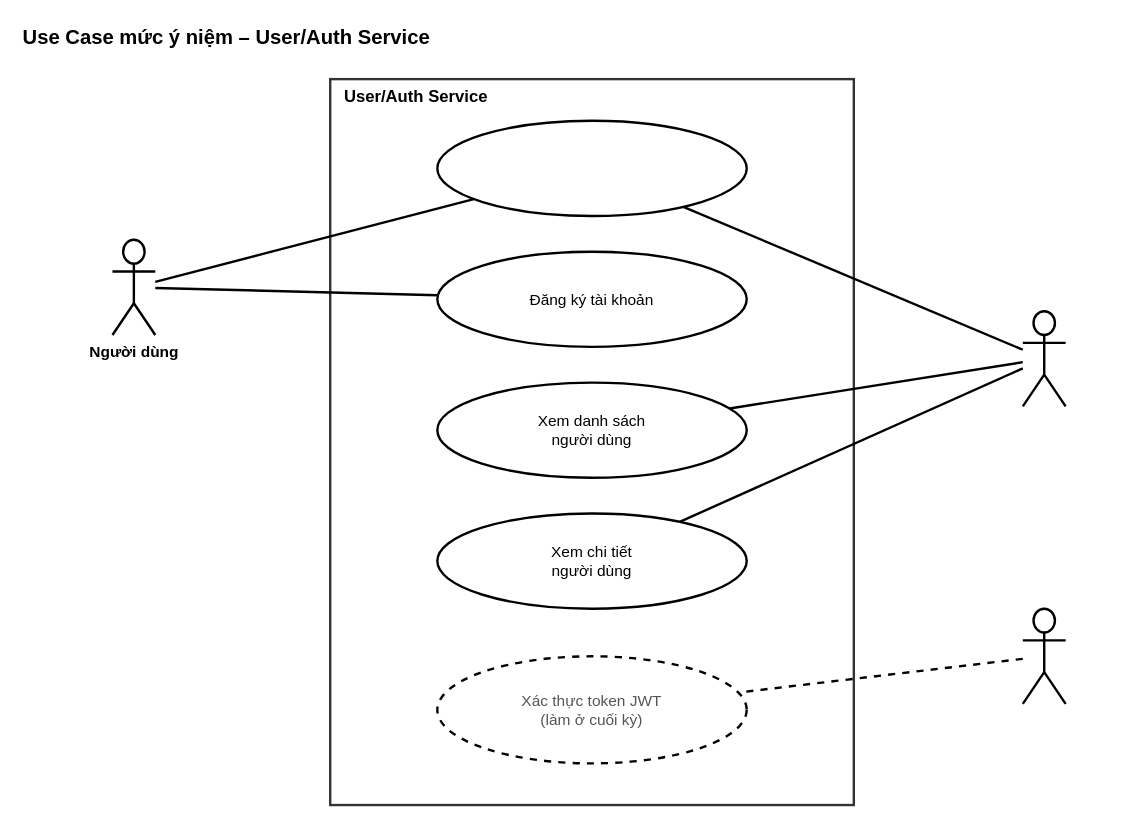
Image size: 1134x826. Some labels were removed from this diagram. Here are the shapes that lost their labels. From the top down, the centre of each, then its label:
At [591,168]: "Đăng nhập".
At [1043,358]: "Quản trị viên".
At [1043,655]: "Booking / Payment (actor hệ thống)".
